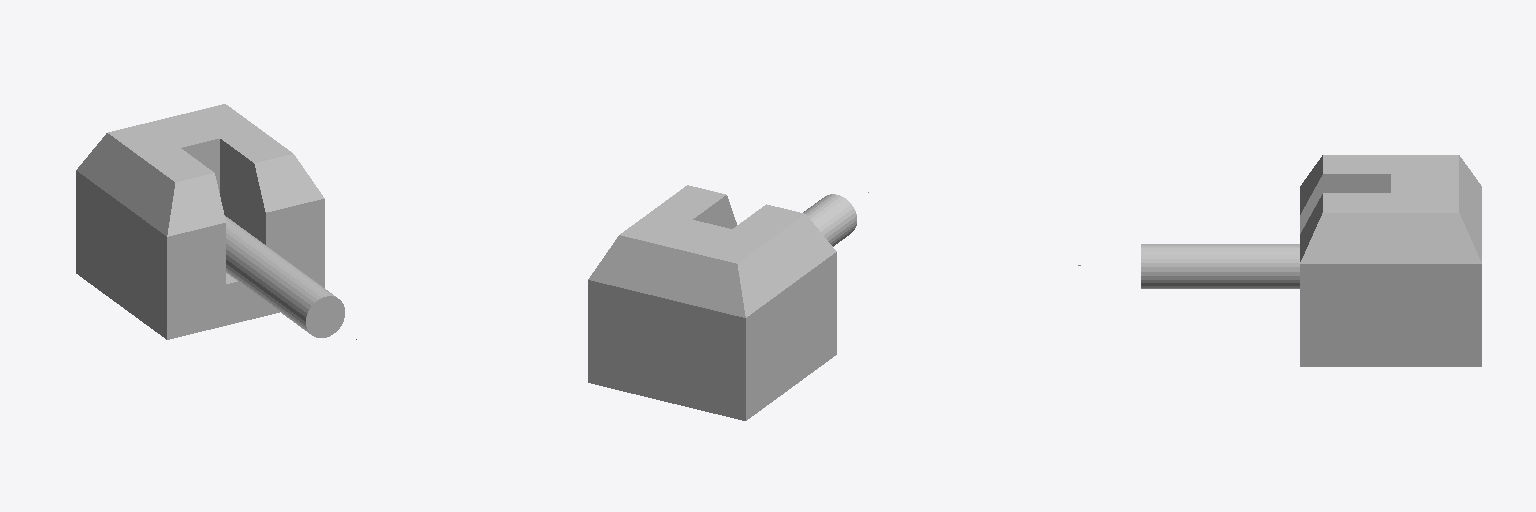
The model's file is turret1.obj.
The picture shows the model from 3 angles: view 1: azimuth 30°, elevation 25°; view 2: azimuth 150°, elevation 25°; view 3: azimuth 270°, elevation 25°; orthographic projection.
Parts seen in each view (by area): view 1: Turret_Cube.001, Barrel_Cylinder; view 2: Turret_Cube.001, Barrel_Cylinder; view 3: Turret_Cube.001, Barrel_Cylinder.
Boxes of the visible parts, x1=… form: Turret_Cube.001: x1=76, y1=104, x2=324, y2=339; Barrel_Cylinder: x1=225, y1=216, x2=344, y2=337; Turret_Cube.001: x1=588, y1=185, x2=836, y2=420; Barrel_Cylinder: x1=803, y1=194, x2=856, y2=246; Turret_Cube.001: x1=1300, y1=155, x2=1481, y2=366; Barrel_Cylinder: x1=1141, y1=244, x2=1299, y2=288.
Size of the model in its own units: 0.16 by 0.14 by 0.3552.